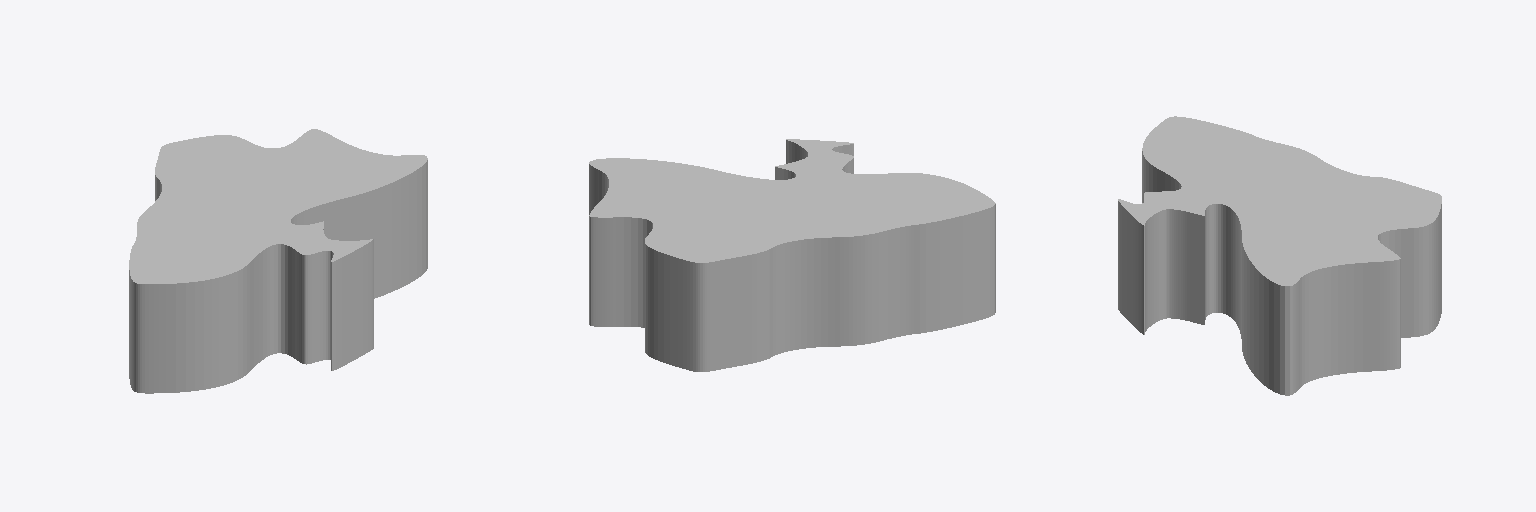
The model's file is North_America_08.obj.
3 renders of one model, left to right at view 1: azimuth 30°, elevation 25°; view 2: azimuth 150°, elevation 25°; view 3: azimuth 270°, elevation 25°, orthographic.
Parts seen in each view (by area): view 1: North_America_08_path4198; view 2: North_America_08_path4198; view 3: North_America_08_path4198.
Part boxes in pixels (x1,y1,x2,y2): North_America_08_path4198: (129,129,427,393); North_America_08_path4198: (589,139,995,371); North_America_08_path4198: (1118,116,1441,395).
Size of the model in its own units: 0.3335 by 0.1 by 0.2691.